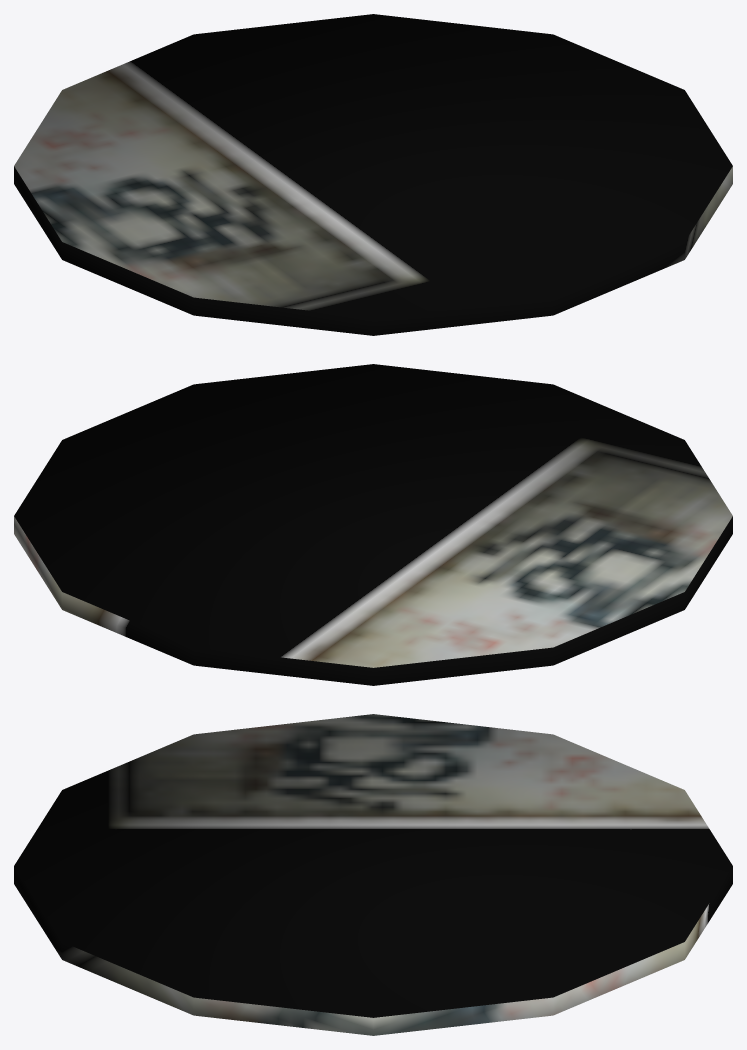
The model's file is manhole.FBX.
3 views of the same model, one above another, from view 1: azimuth 30°, elevation 25°; view 2: azimuth 150°, elevation 25°; view 3: azimuth 270°, elevation 25° (orthographic).
Parts seen in each view (by area): view 1: manhole; view 2: manhole; view 3: manhole.
Boxes of the visible parts, x1,y1,x2,y2 form: manhole: (14, 14, 732, 335); manhole: (14, 364, 732, 685); manhole: (14, 714, 732, 1035).
Size of the model in its own units: 131 by 3.62 by 131.
